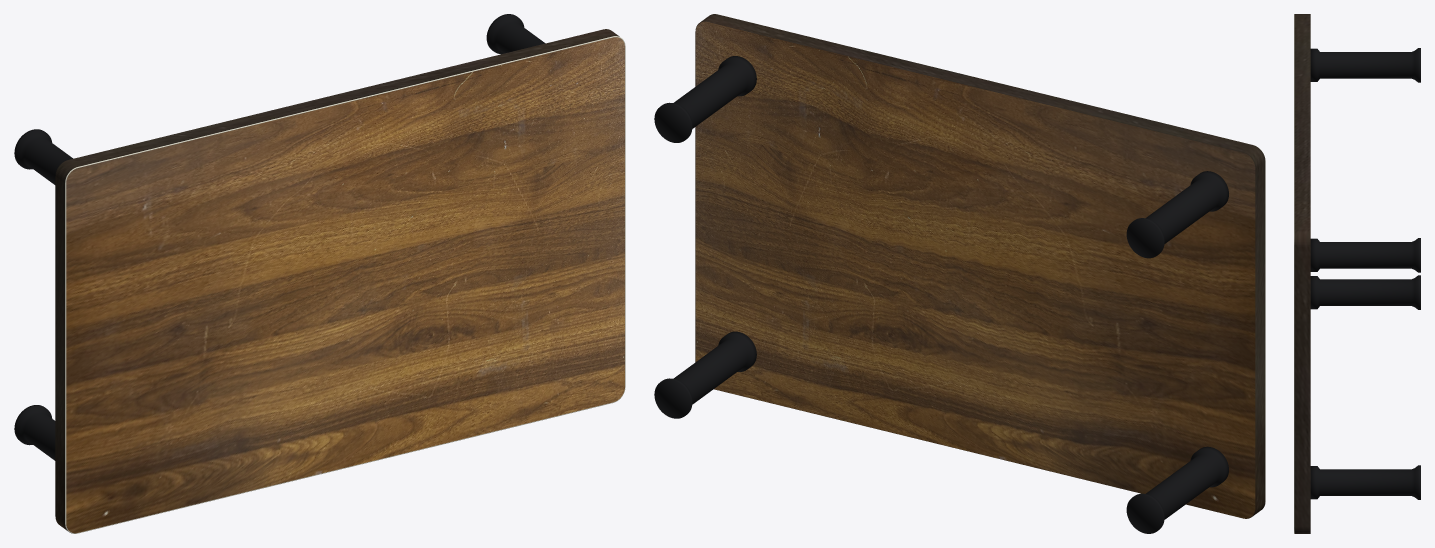
The model's file is desk.obj.
3 renders of one model, left to right at view 1: azimuth 30°, elevation 25°; view 2: azimuth 150°, elevation 25°; view 3: azimuth 270°, elevation 25°, orthographic. The views are drawn at different scales.
Visible parts, largest first — view 1: geometry_0; view 2: geometry_0; view 3: geometry_0.
Part boxes in pixels (box(x1,y1,x2,y2)): geometry_0: box(14, 14, 625, 533); geometry_0: box(654, 14, 1265, 533); geometry_0: box(1294, 14, 1420, 533).
Bounding box in the file's own units: 0.8 × 0.5 × 0.19.
Materials: 1 (1 with a texture image).
